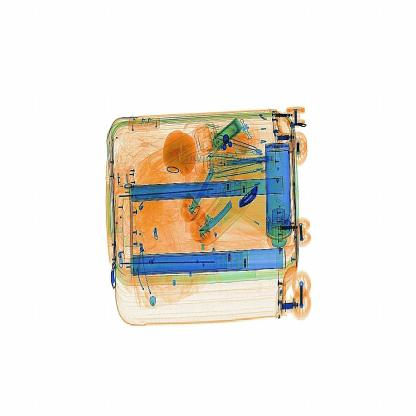knife: (236, 180, 266, 218)
